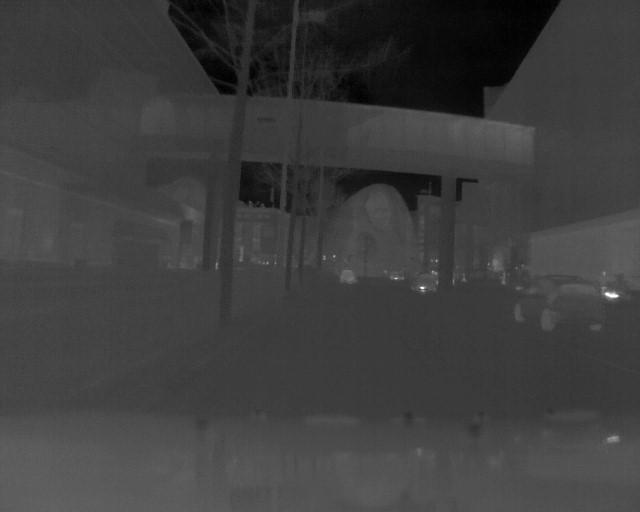car: (513, 271, 606, 342), (406, 271, 439, 296), (337, 267, 357, 286)
